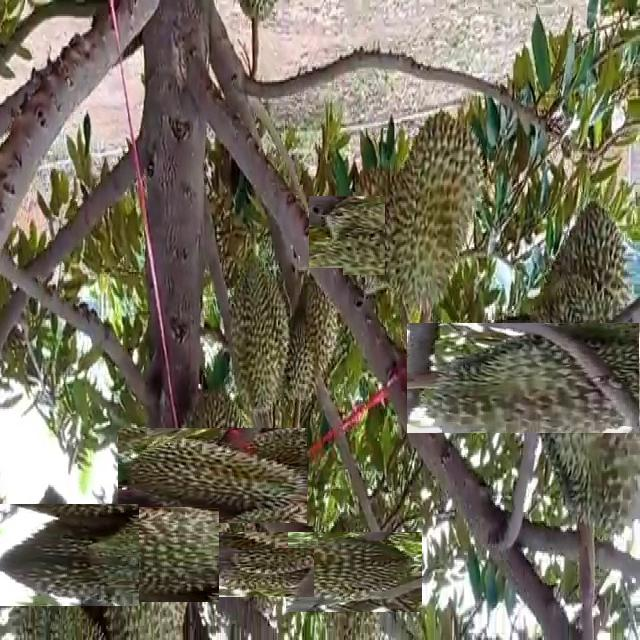durian: (467, 263, 640, 494), (141, 404, 284, 546), (385, 108, 478, 320), (76, 490, 203, 618), (0, 490, 125, 620), (326, 178, 442, 294), (300, 518, 409, 626), (230, 256, 292, 422), (276, 268, 343, 413), (219, 533, 299, 613), (203, 519, 275, 591)
